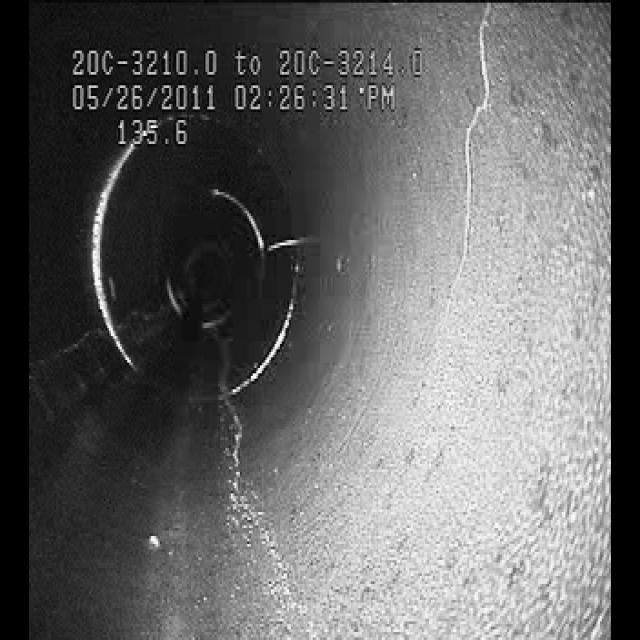Crack: (437, 27, 508, 328)
